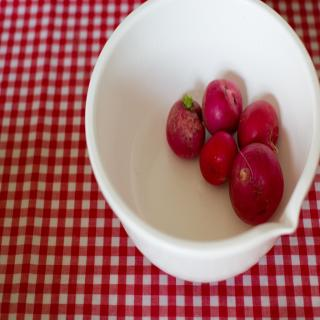tomato: (203, 133, 238, 183)
